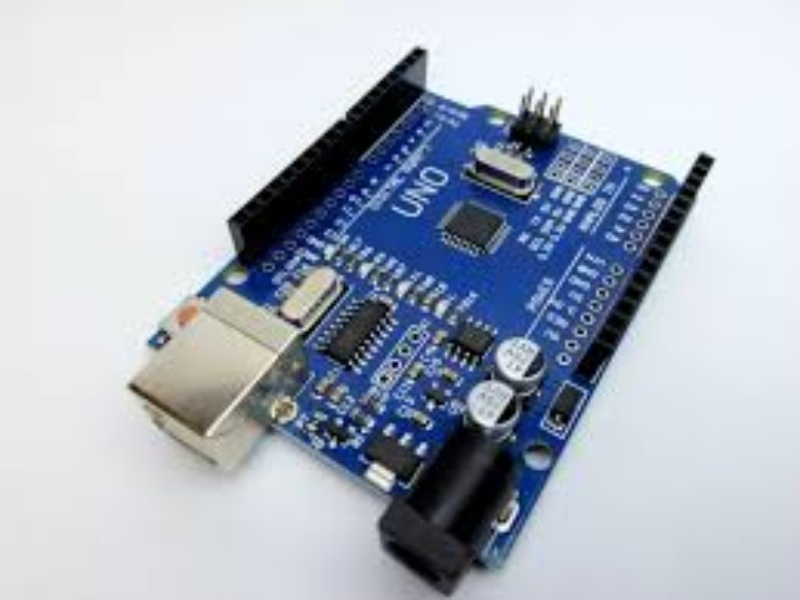uno: (134, 33, 671, 535)
